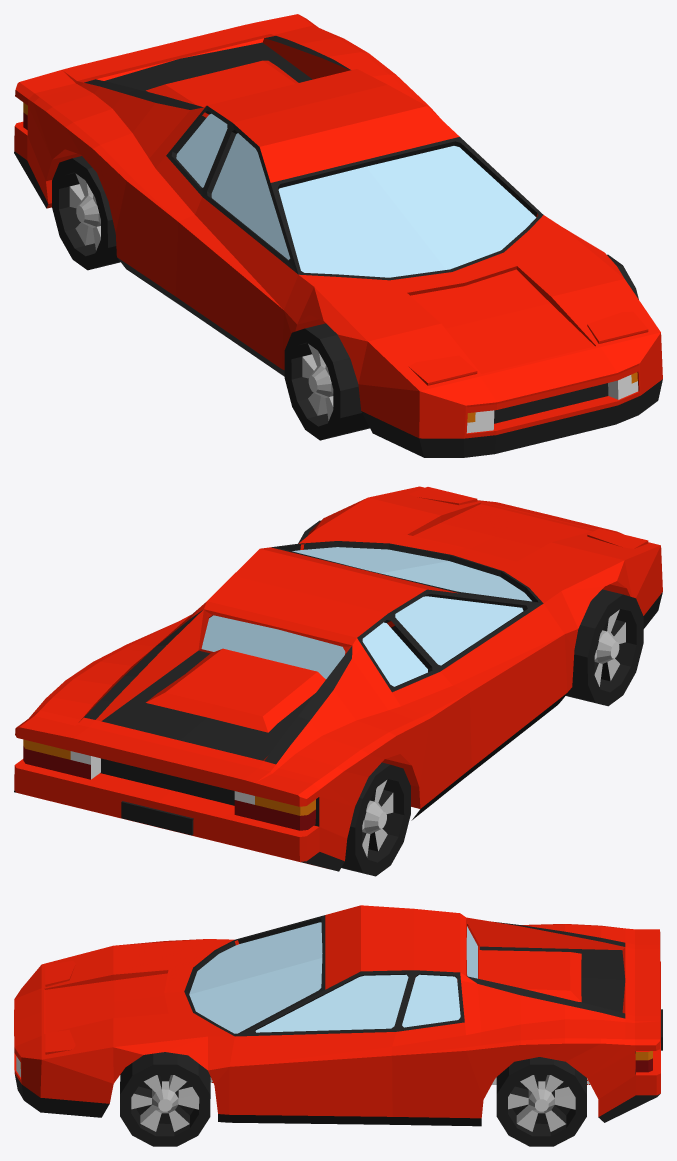
Rendered from Ferarri2.glb.
The picture shows the model from 3 angles, top to bottom: view 1: azimuth 30°, elevation 25°; view 2: azimuth 150°, elevation 25°; view 3: azimuth 270°, elevation 25°; orthographic projection. The views are drawn at different scales.
Parts seen in each view (by area): view 1: Car, FrontWheels, BackWheels; view 2: Car, FrontWheels, BackWheels; view 3: Car, FrontWheels, BackWheels.
Boxes of the visible parts, bbox=[...] form: Car: bbox=[14, 14, 662, 457]; FrontWheels: bbox=[284, 254, 638, 440]; BackWheels: bbox=[52, 156, 120, 270]; Car: bbox=[14, 486, 662, 871]; FrontWheels: bbox=[298, 520, 643, 706]; BackWheels: bbox=[341, 762, 410, 876]; Car: bbox=[14, 905, 662, 1126]; FrontWheels: bbox=[120, 1052, 210, 1146]; BackWheels: bbox=[496, 1057, 586, 1146].
Bounding box in the file's own units: 3.73 × 2.15 × 8.54.
1 material, 1 textured.
